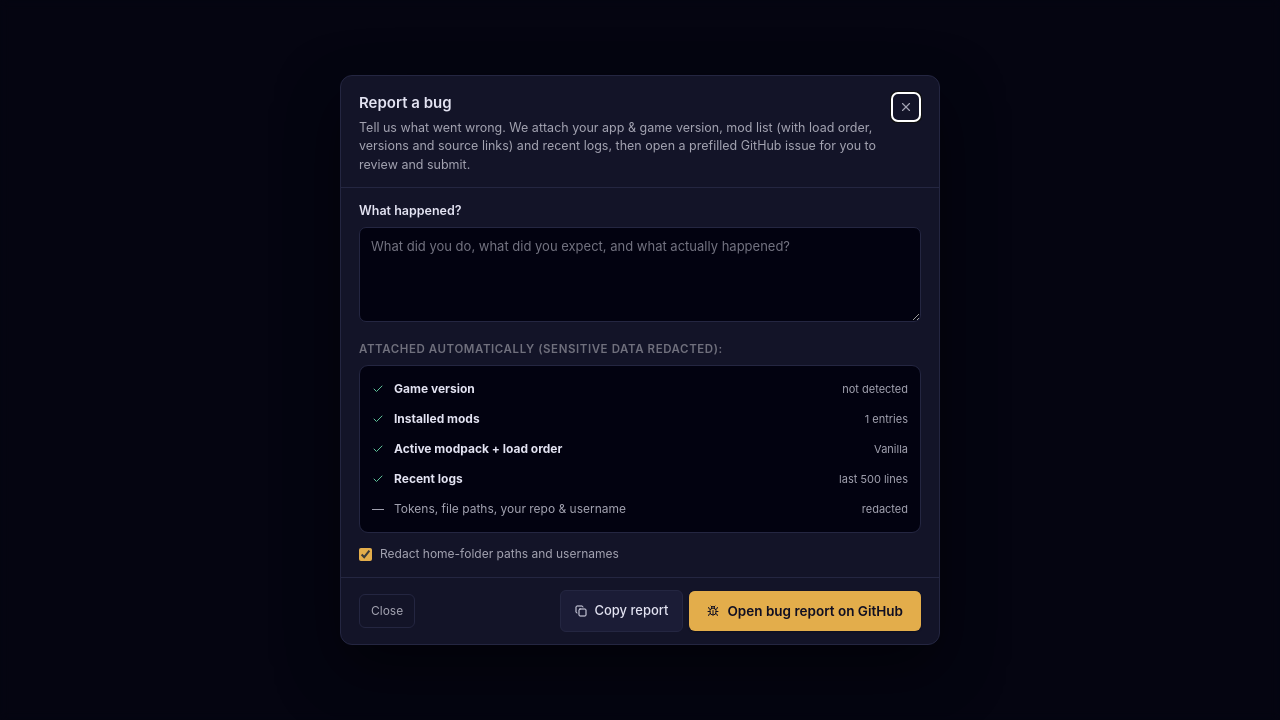
Scenario: <DiagnosticBundle> (Report a bug) › toasts an error when report construction throws
Expected: the text "1 entries" is shown, [865, 411, 908, 428]
Click the button "Copy report".
click(622, 611)  # box [560, 590, 684, 632]
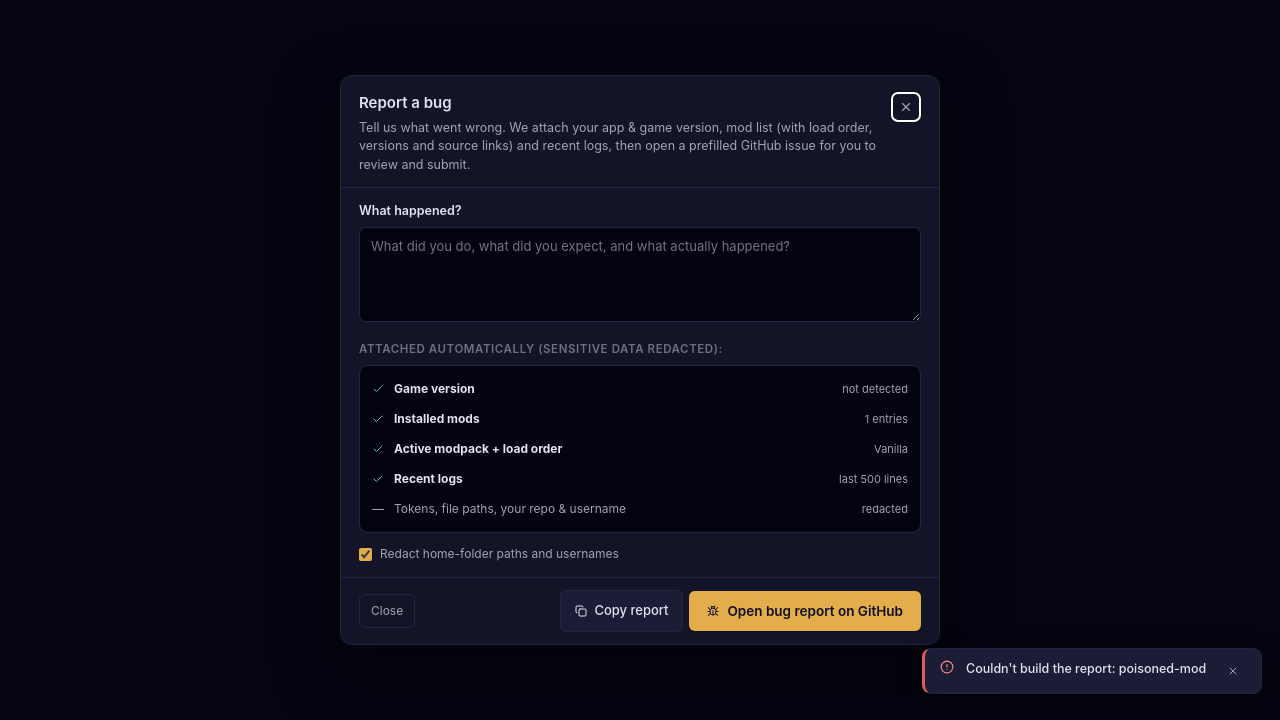
Expected: the text "Couldn't build the report: poisoned-mod" is shown, [966, 660, 1208, 679]
